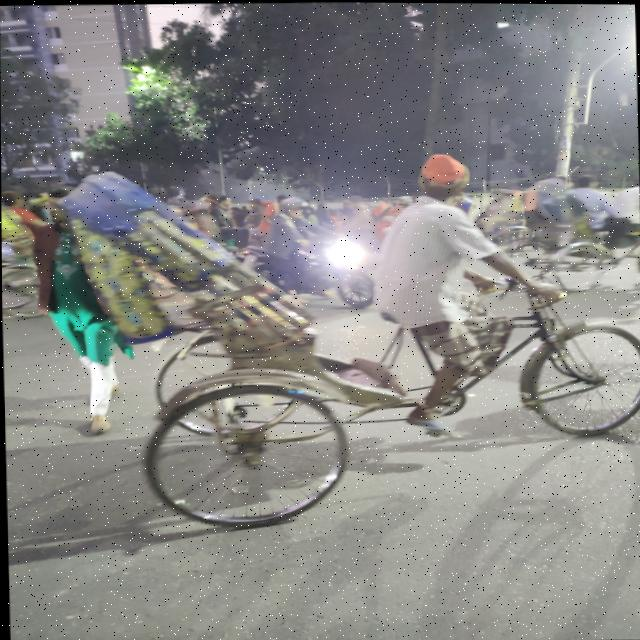rikshaw: (45, 147, 640, 540)
